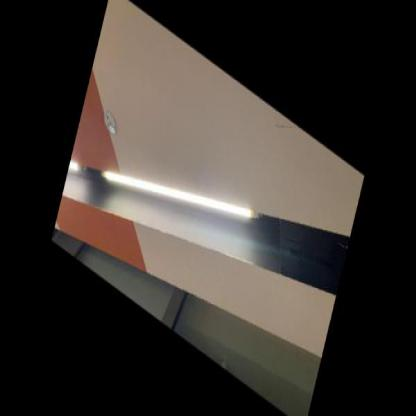light_on: (99, 104, 260, 292), (66, 149, 85, 189)
